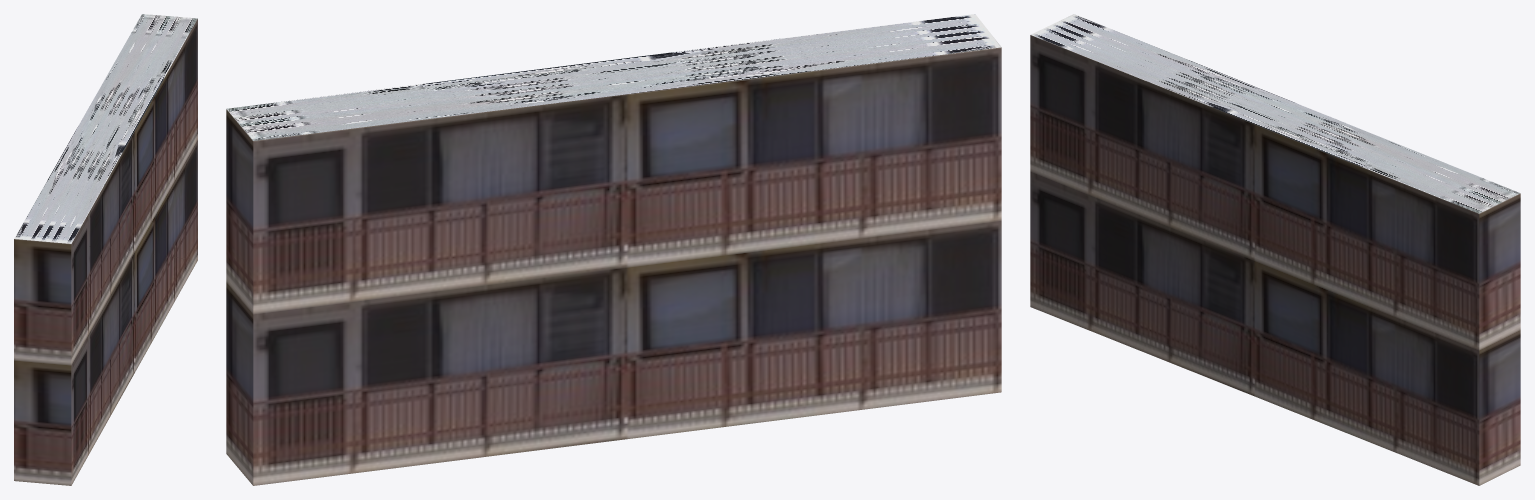
File: ResTex__3948.fbx
3 views of the same model, side by side, from view 1: azimuth 30°, elevation 25°; view 2: azimuth 150°, elevation 25°; view 3: azimuth 270°, elevation 25° (orthographic). The views are drawn at different scales.
Visible parts, largest first — view 1: CityEngineMaterial_6_m, CityEngineMaterial_4_m; view 2: CityEngineMaterial_6_m, CityEngineMaterial_4_m; view 3: CityEngineMaterial_6_m, CityEngineMaterial_4_m.
Part boxes in pixels (x1=…): CityEngineMaterial_6_m: x1=14, y1=19, x2=197, y2=485; CityEngineMaterial_4_m: x1=14, y1=14, x2=197, y2=243; CityEngineMaterial_6_m: x1=226, y1=47, x2=1001, y2=485; CityEngineMaterial_4_m: x1=226, y1=14, x2=1001, y2=140; CityEngineMaterial_6_m: x1=1030, y1=35, x2=1520, y2=485; CityEngineMaterial_4_m: x1=1030, y1=14, x2=1520, y2=213.
Bounding box in the file's own units: 9.45 × 6 × 9.8.
Materials: 2 (2 with a texture image).
